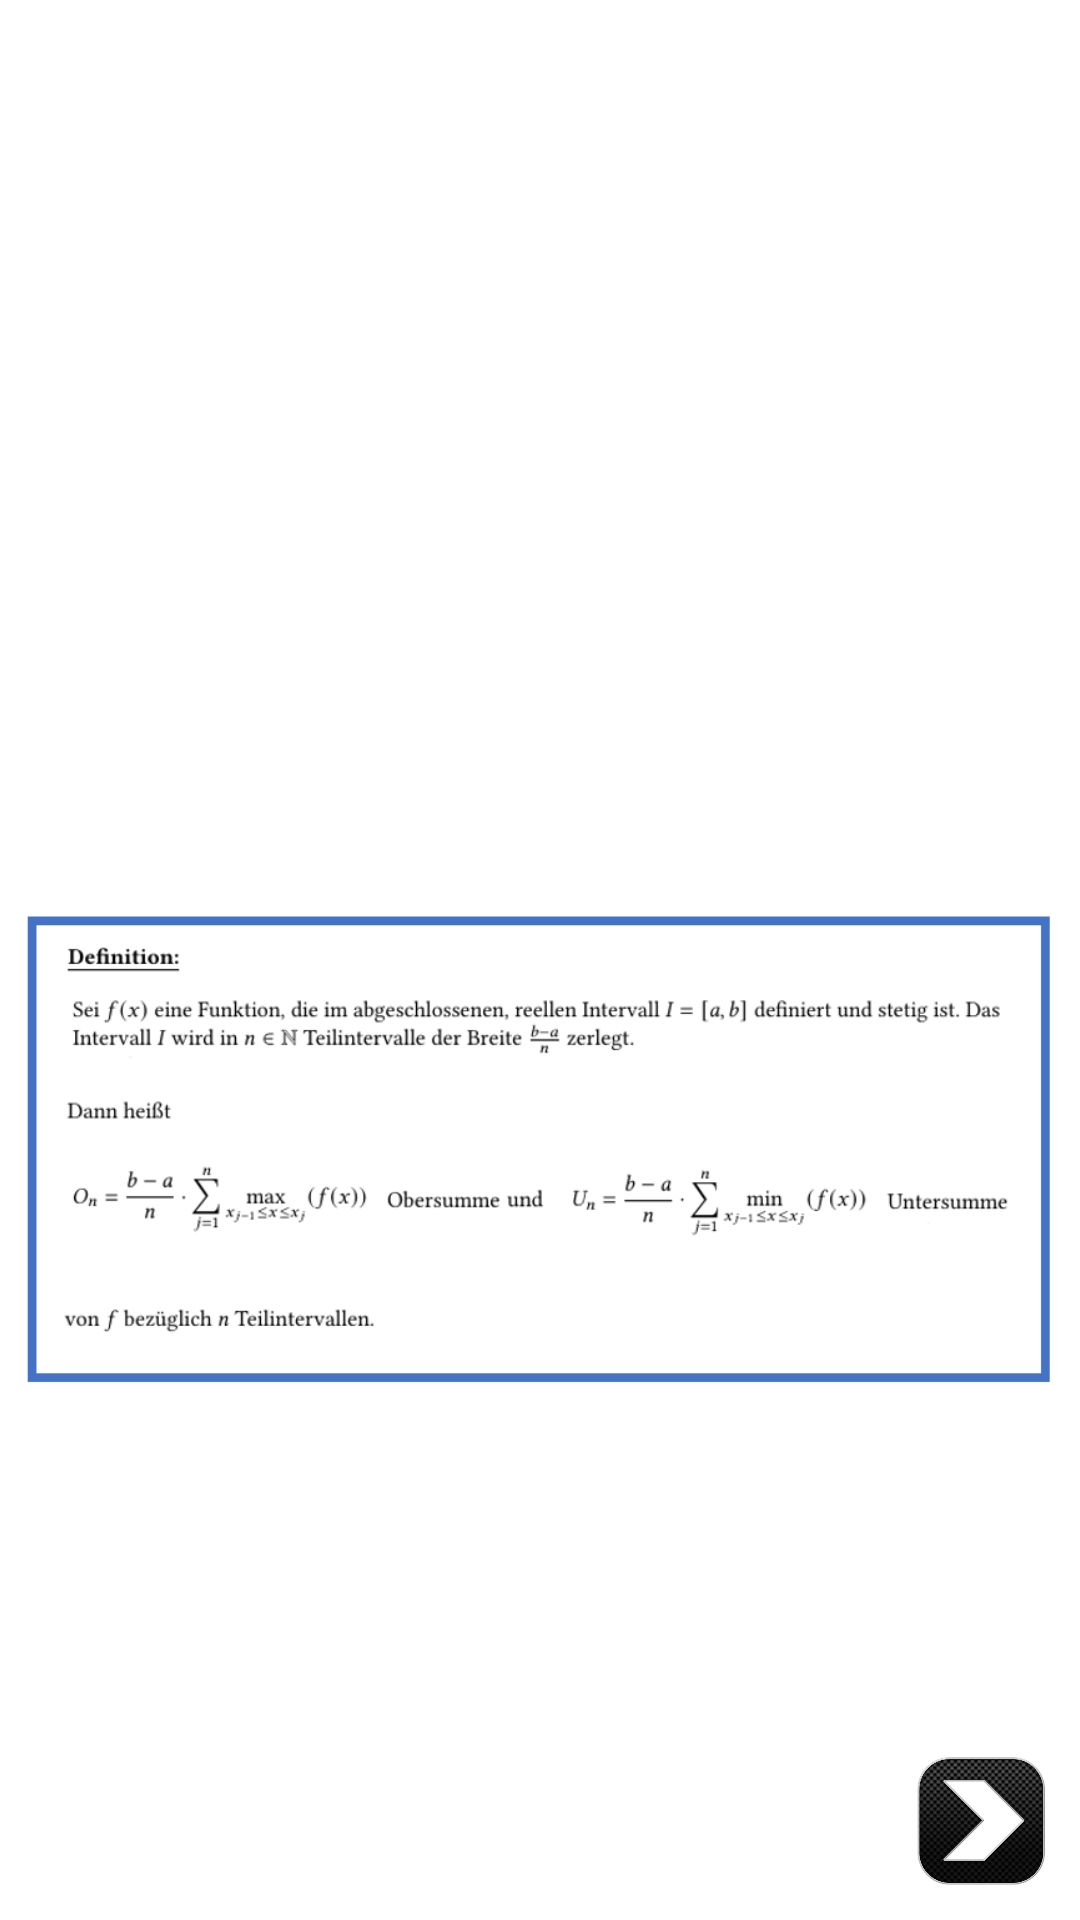

Where icons sit on this 1080 × 1920 app screen, as (left=x1, top=y1, right=x2, bottom=y2):
nextbutton: (left=918, top=1757, right=1045, bottom=1885)
